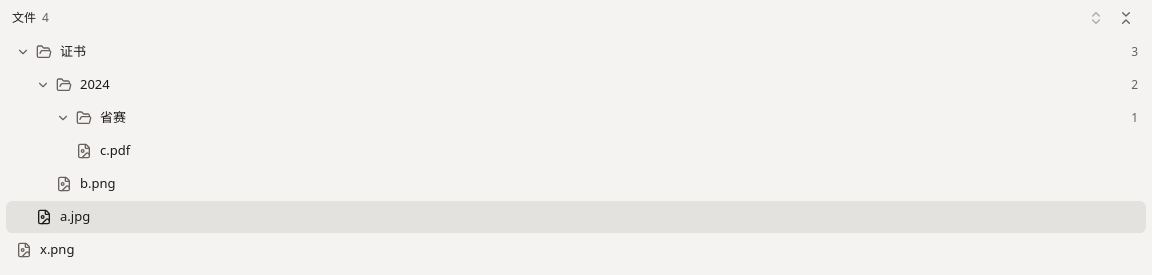
Test: Sidebar folder actions › collapses every folder, then expands them again
expect the button named "展开所有文件夹" is disabled: met, box left=1082, top=4, right=1110, bottom=32
expect the text "b.png" is shown: met, box left=80, top=174, right=116, bottom=192
Click the button named "收缩所有文件夹" at [1126, 18], box left=1112, top=4, right=1140, bottom=32
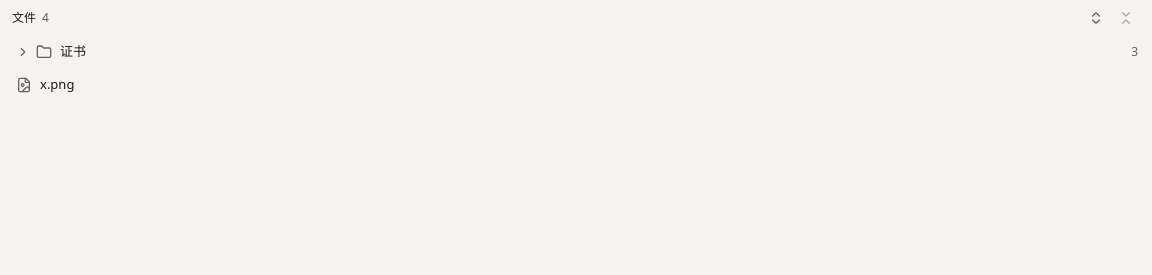
expect the button "证书 3" is collapsed: met, box left=6, top=36, right=1146, bottom=68
expect the button "a.jpg" is gone: met
expect the button "b.png" is gone: met
Click the button named "展开所有文件夹" at [1096, 18], box left=1082, top=4, right=1110, bottom=32
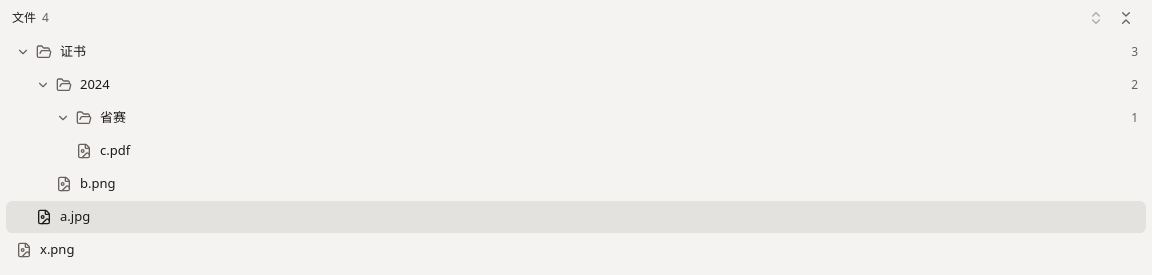
expect the button "证书 3" is expanded: met, box left=6, top=36, right=1146, bottom=68
expect the text "c.pdf" is shown: met, box left=100, top=141, right=130, bottom=159
expect the button named "展开所有文件夹" is disabled: met, box left=1082, top=4, right=1110, bottom=32
